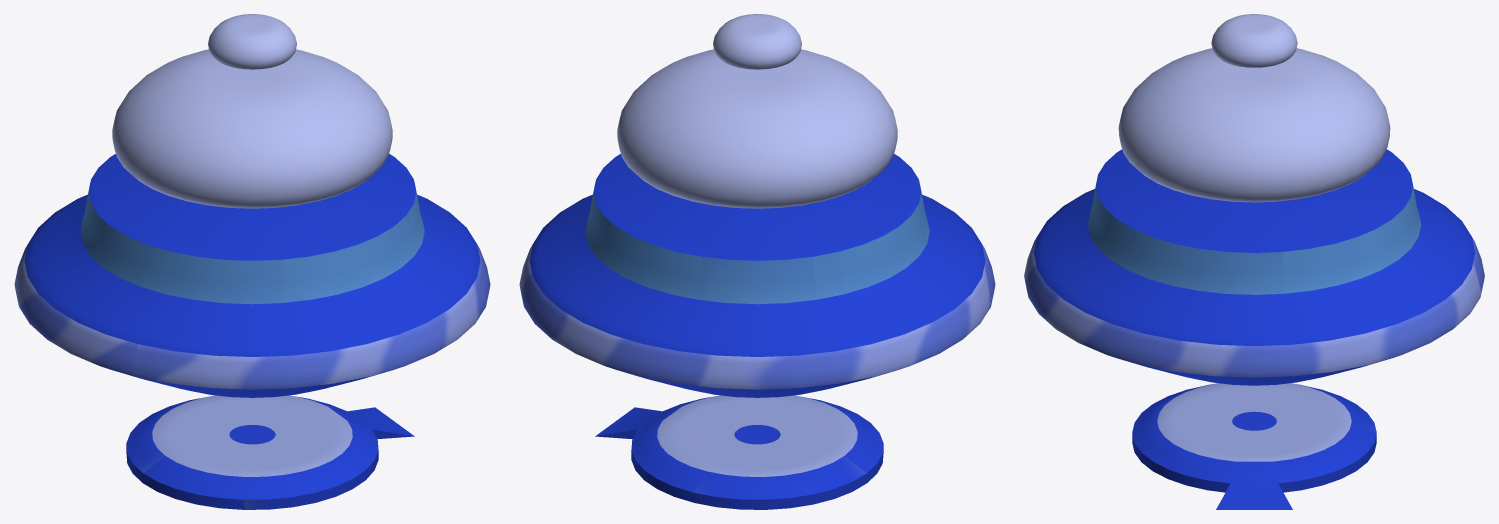
The model's file is arac.fbx.
3 renders of one model, left to right at view 1: azimuth 30°, elevation 25°; view 2: azimuth 150°, elevation 25°; view 3: azimuth 270°, elevation 25°, orthographic. The views are drawn at different scales.
Parts seen in each view (by area): view 1: Circle.001, Circle.002; view 2: Circle.001, Circle.002; view 3: Circle.001, Circle.002.
Boxes of the visible parts, x1,y1,x2,y2 form: Circle.001: (14, 14, 490, 397); Circle.002: (126, 395, 414, 509); Circle.001: (519, 14, 995, 397); Circle.002: (595, 395, 883, 509); Circle.001: (1024, 14, 1484, 385); Circle.002: (1132, 383, 1376, 509).
Bounding box in the file's own units: 2076 × 2076 × 2080.
